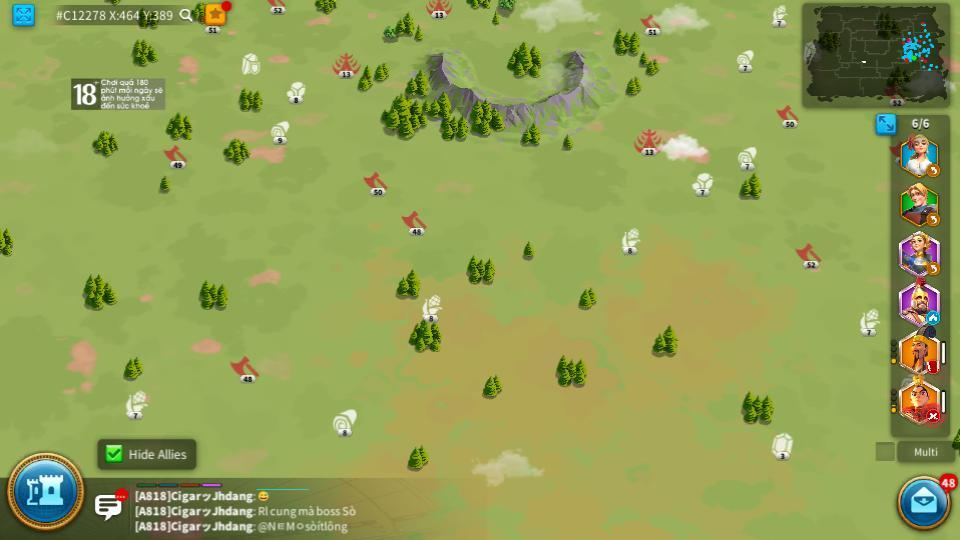gem-z-out: (770, 433, 796, 459)
march_attacking: (925, 410, 941, 421), (925, 363, 938, 374)
march_idle: (927, 312, 940, 324)
march_returning: (926, 164, 941, 176), (925, 263, 938, 274), (927, 216, 941, 226)
